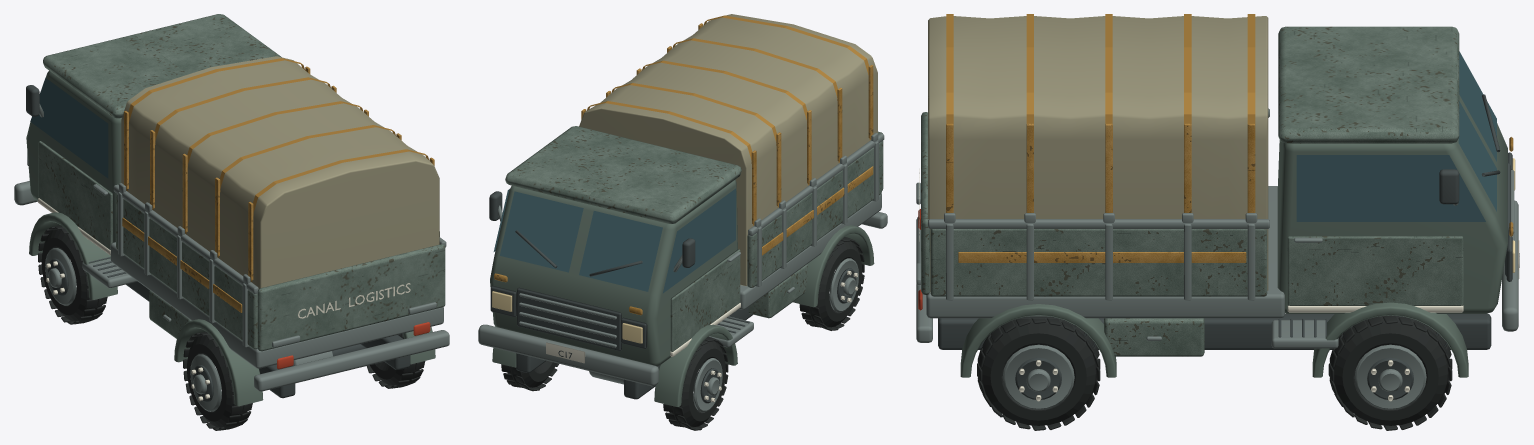
Rendered from cargo-truck.glb.
The picture shows the model from 3 angles, left to right: view 1: azimuth 30°, elevation 25°; view 2: azimuth 150°, elevation 25°; view 3: azimuth 270°, elevation 25°; orthographic projection. The views are drawn at different scales.
Visible parts, largest first — view 1: CargoTruck_Geometry, WheelLRear_Geometry, WheelLFront_Geometry, WheelRRear_Geometry; view 2: CargoTruck_Geometry, WheelLFront_Geometry, WheelLRear_Geometry, WheelRFront_Geometry; view 3: CargoTruck_Geometry, WheelRFront_Geometry, WheelRRear_Geometry.
Part boxes in pixels (x1,y1,x2,y2): CargoTruck_Geometry: (14,14,449,406); WheelLRear_Geometry: (183,332,252,430); WheelLFront_Geometry: (38,225,107,324); WheelRRear_Geometry: (366,333,425,388); CargoTruck_Geometry: (478,14,887,406); WheelLFront_Geometry: (663,336,728,430); WheelLRear_Geometry: (799,237,864,330); WheelRFront_Geometry: (501,361,558,391); CargoTruck_Geometry: (916,14,1519,377); WheelRFront_Geometry: (1328,315,1452,430); WheelRRear_Geometry: (977,318,1100,430).
Size of the model in its own units: 1.79 by 2.15 by 3.6.
10 materials, 3 textured.
